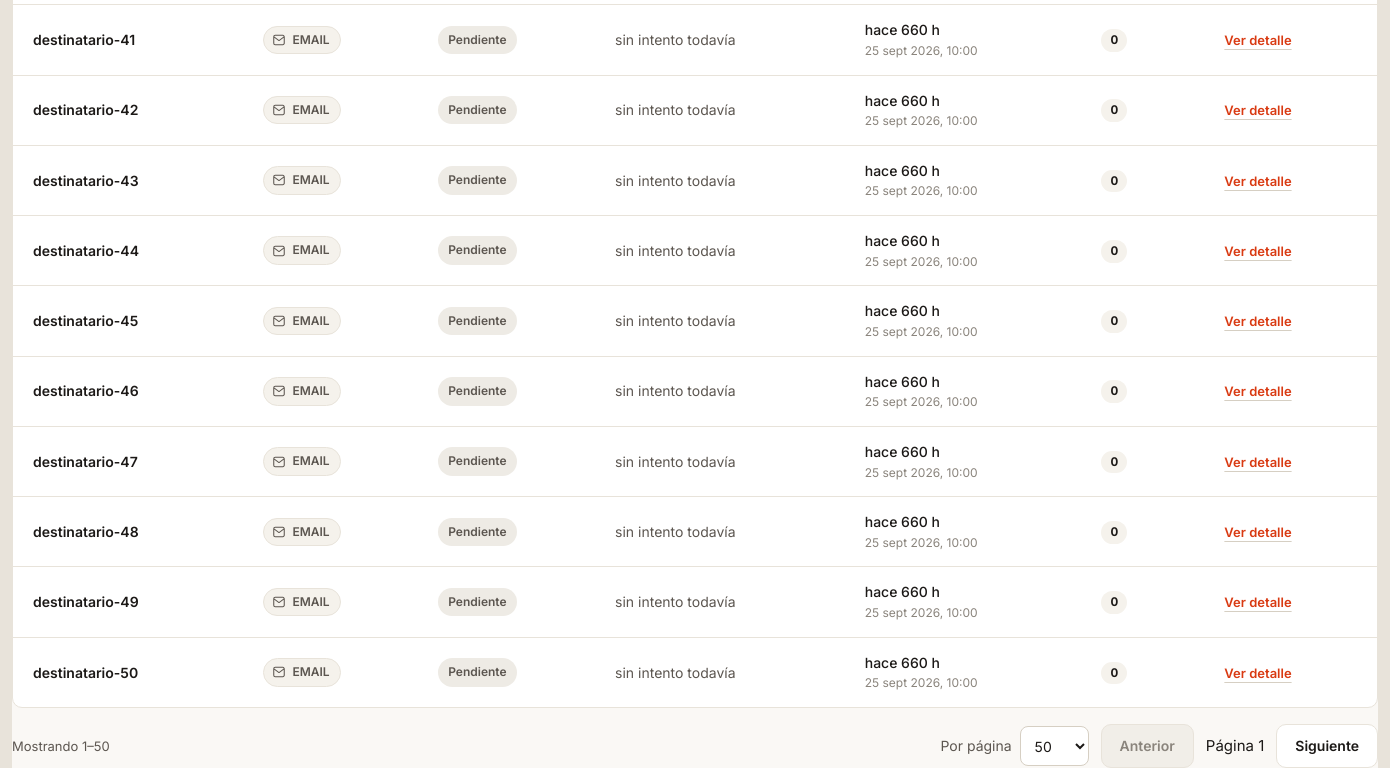
Test: Listado (paginación) › avanza a la página siguiente pidiendo el offset correspondiente
(page scrolled)
Click the button "Siguiente": (1327, 746) 1276,724 -> 1378,767
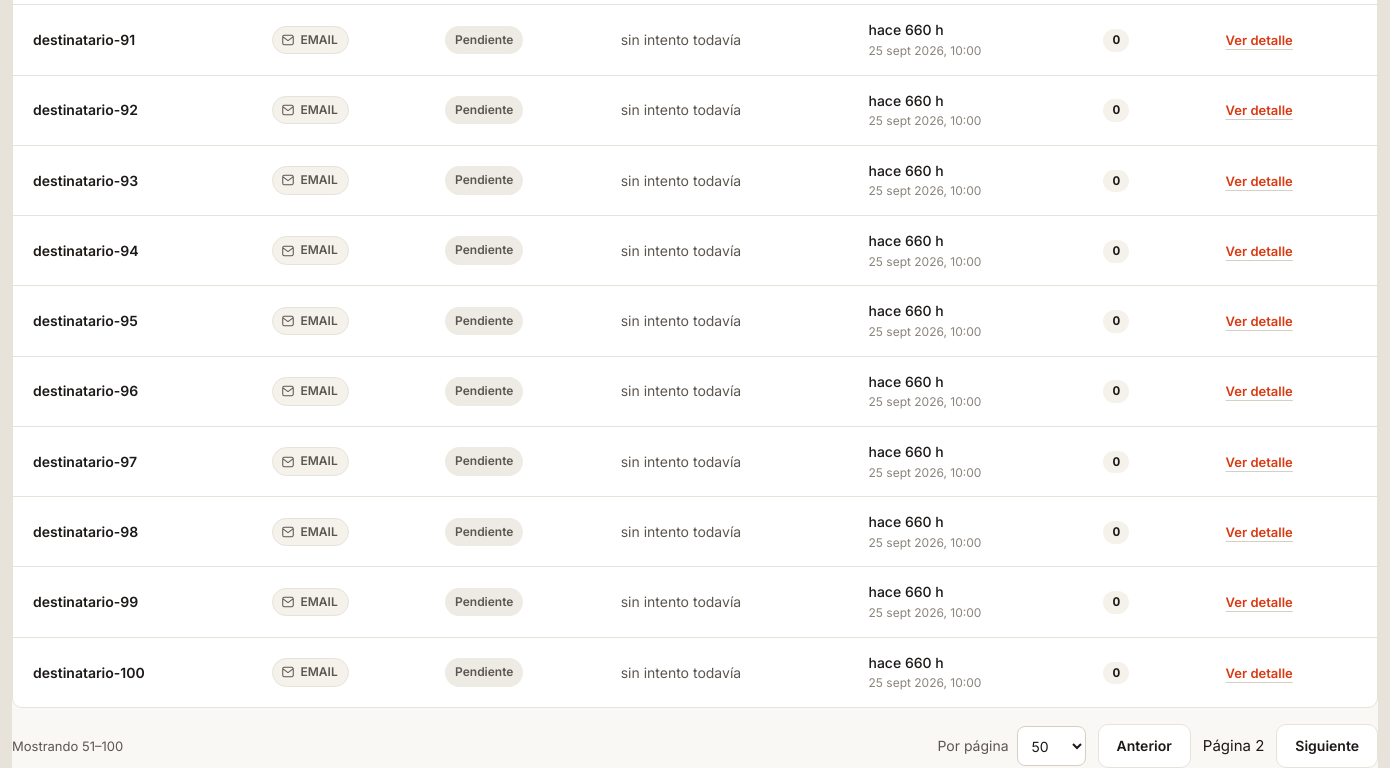
Expected: the text "Página 2" is shown, 1203,734 -> 1264,758
Expected: the text "Mostrando 51–100" is shown, 12,736 -> 123,756
Expected: the button "Anterior" is enabled, 1098,724 -> 1191,767
